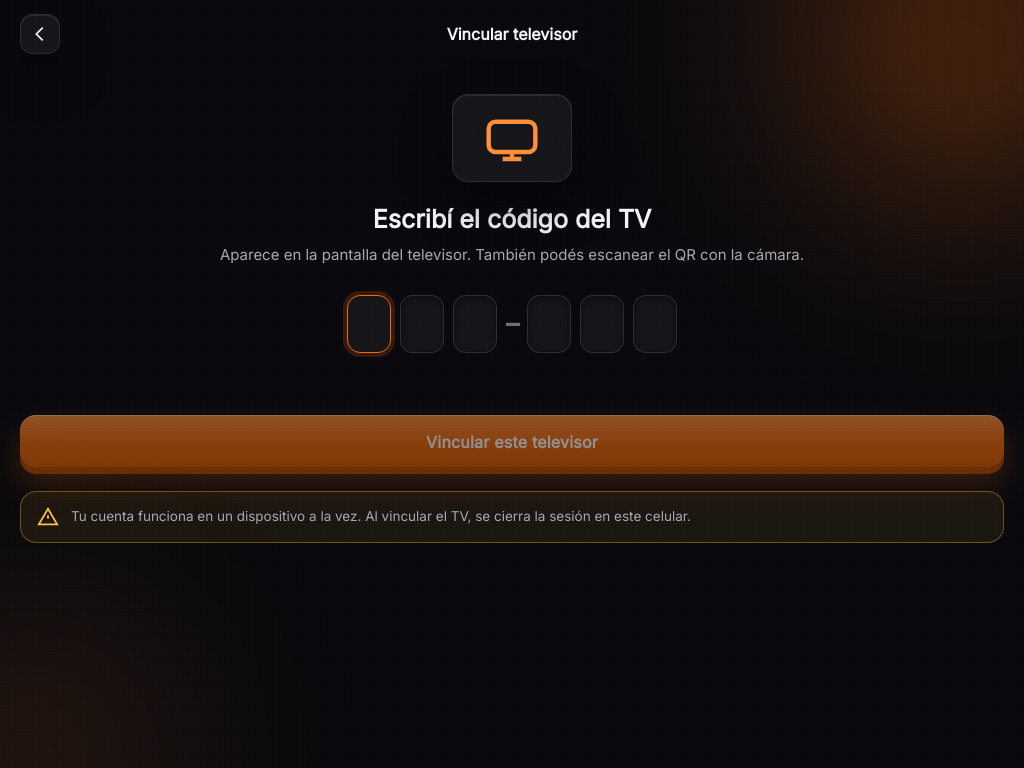
Test: vincular escribiendo el código a mano
Type "abc-234" into the field named "Código del televisor" at (512, 324), box left=347, top=294, right=677, bottom=352
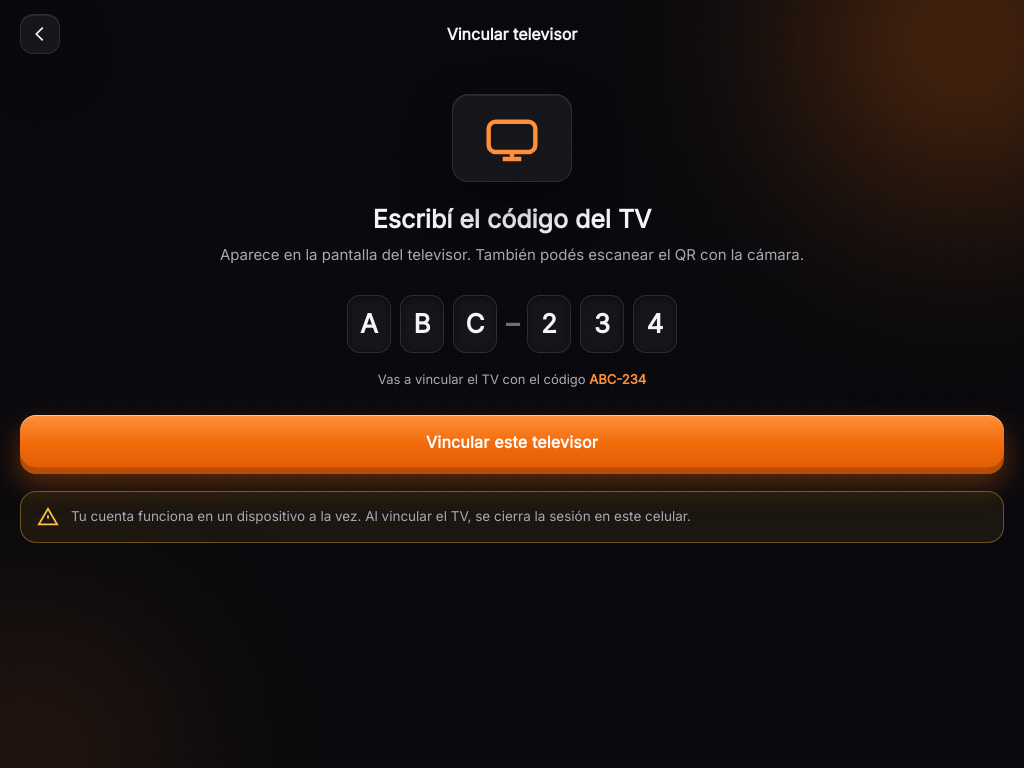
Now the text "ABC-234" is shown, box left=589, top=370, right=646, bottom=386
Now the button "Vincular este televisor" is enabled, box left=20, top=414, right=1004, bottom=468
